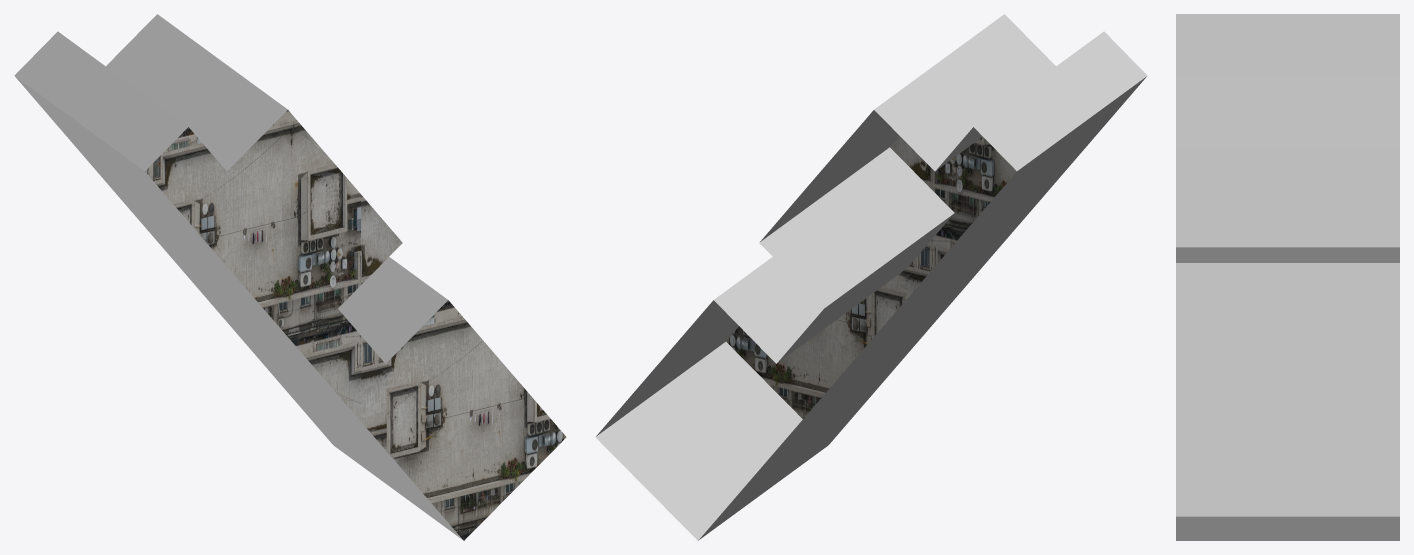
The model's file is geospecific_1695.obj.
3 views of the same model, side by side, from view 1: azimuth 30°, elevation 25°; view 2: azimuth 150°, elevation 25°; view 3: azimuth 270°, elevation 25° (orthographic). The views are drawn at different scales.
Parts seen in each view (by area): view 1: Building; view 2: Building; view 3: Building.
Part boxes in pixels (bbox=[...]): Building: bbox=[14, 14, 566, 540]; Building: bbox=[595, 14, 1147, 540]; Building: bbox=[1176, 14, 1399, 540].
Size of the model in its own units: 16.77 by 18.28 by 9.
